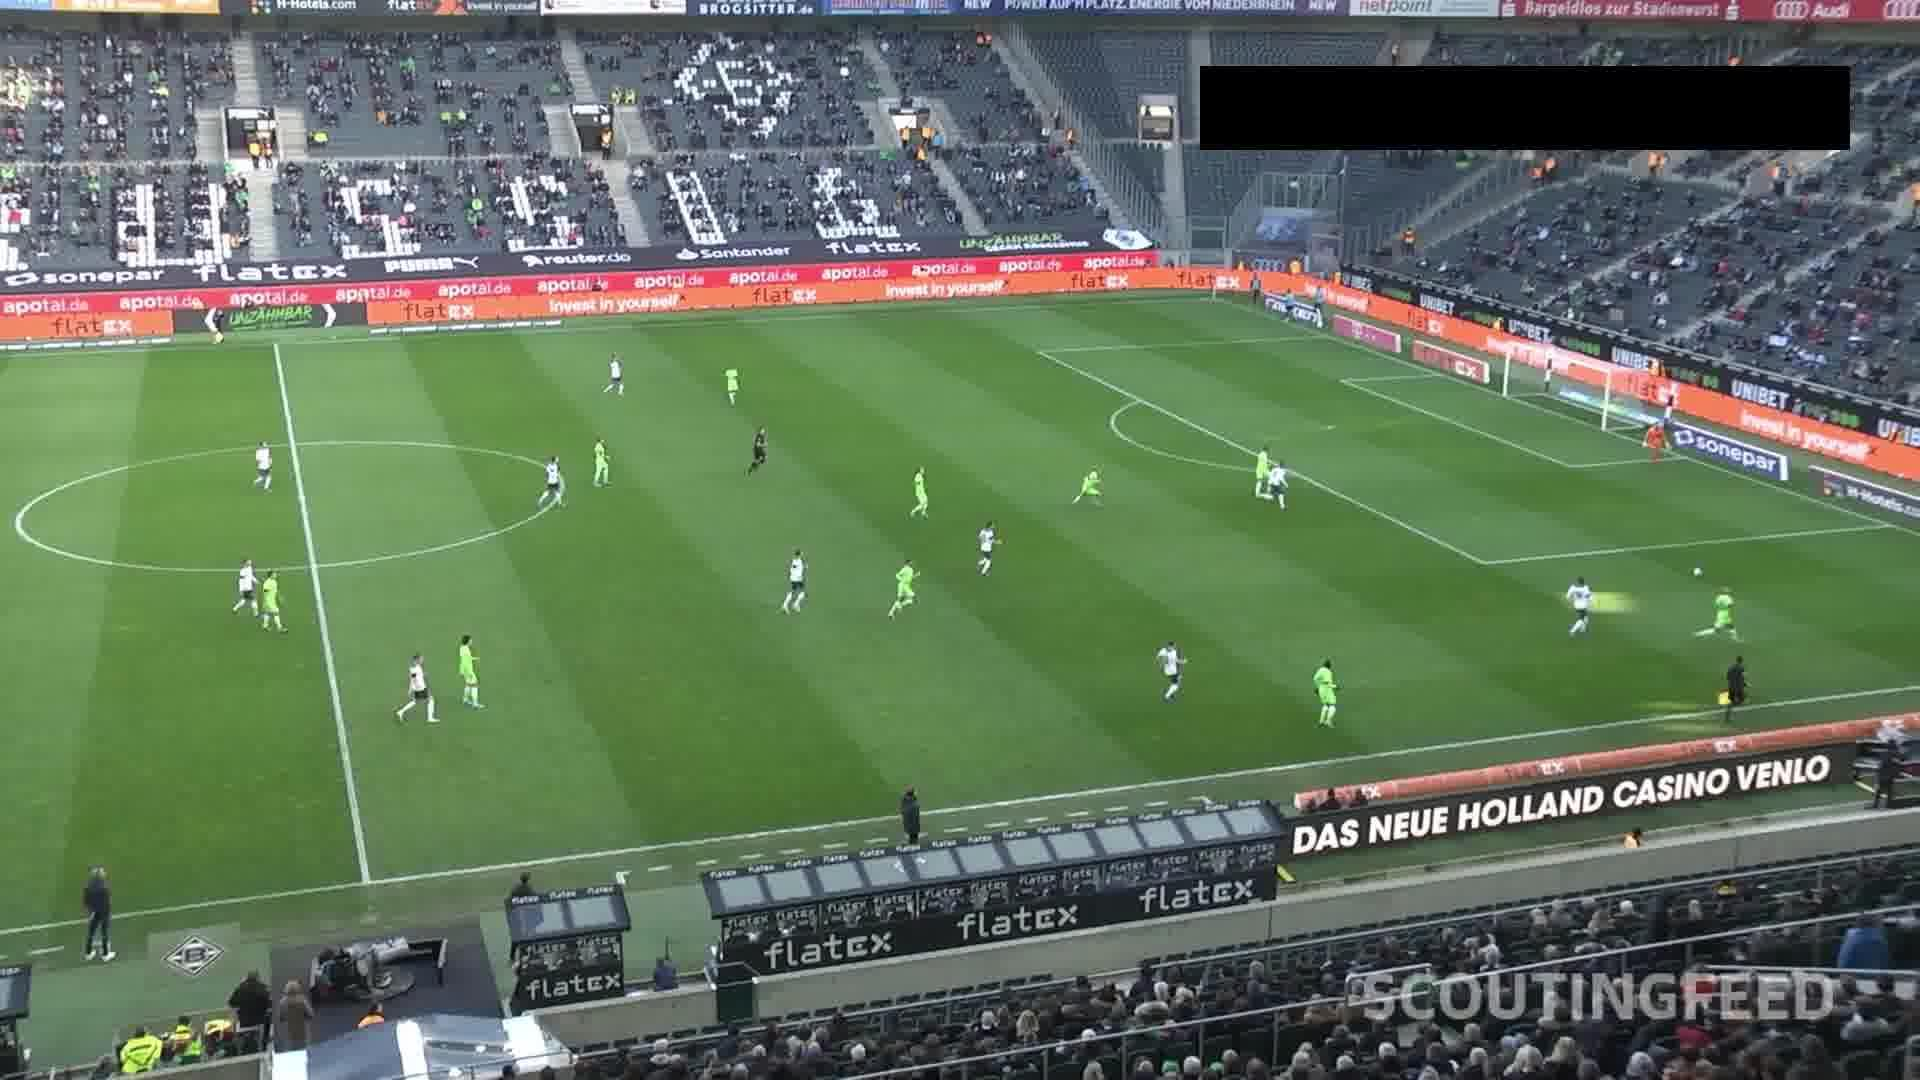football: (1692, 566, 1704, 579)
